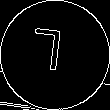L_S: (36, 28, 74, 82)
